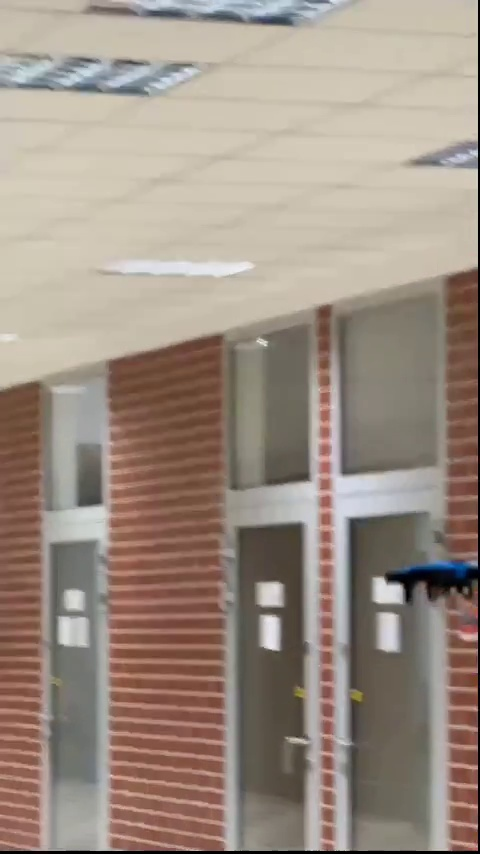drone: (382, 559, 480, 604)
